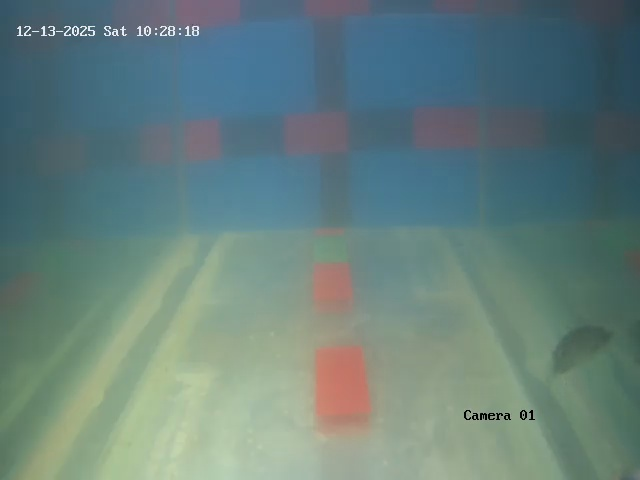fish: (553, 301, 614, 379)
